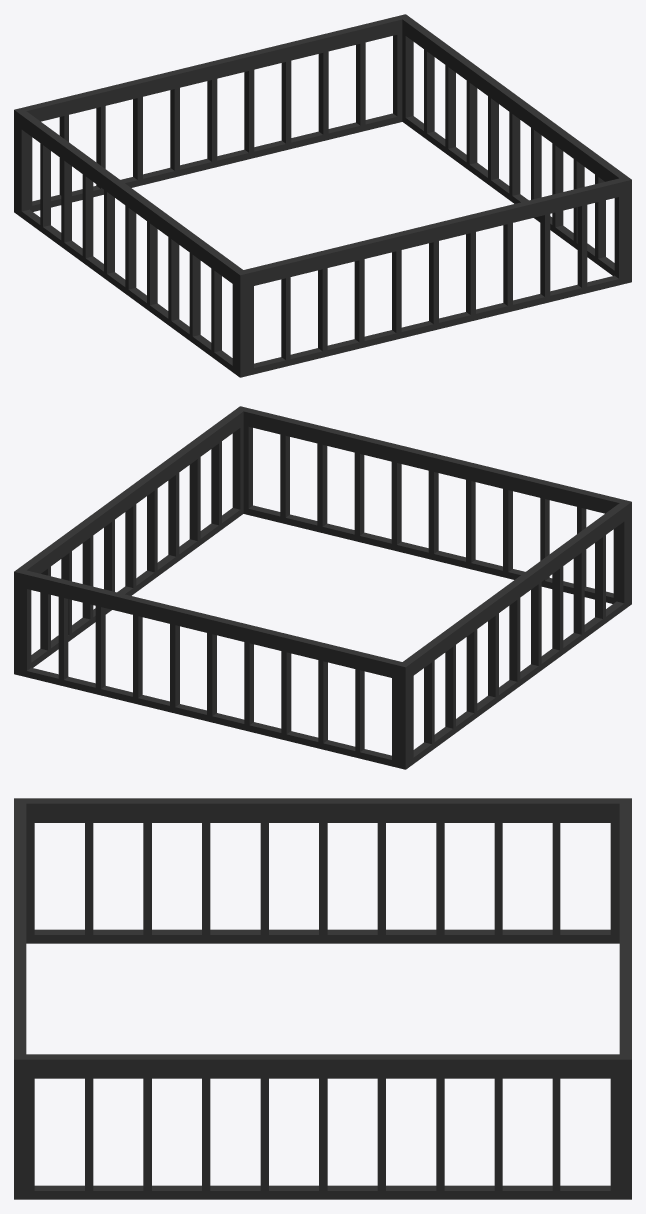
The model's file is Office.glb.
3 renders of one model, top to bottom at view 1: azimuth 30°, elevation 25°; view 2: azimuth 150°, elevation 25°; view 3: azimuth 270°, elevation 25°, orthographic. The views are drawn at different scales.
Visible parts, largest first — view 1: UndamagedOffice-col; view 2: UndamagedOffice-col; view 3: UndamagedOffice-col.
Part boxes in pixels (x1,y1,x2,y2): UndamagedOffice-col: (14,14,631,377); UndamagedOffice-col: (14,406,631,769); UndamagedOffice-col: (14,798,631,1199).
Bounding box in the file's own units: 64 × 16 × 64.
Materials: 1 (1 with a texture image).
